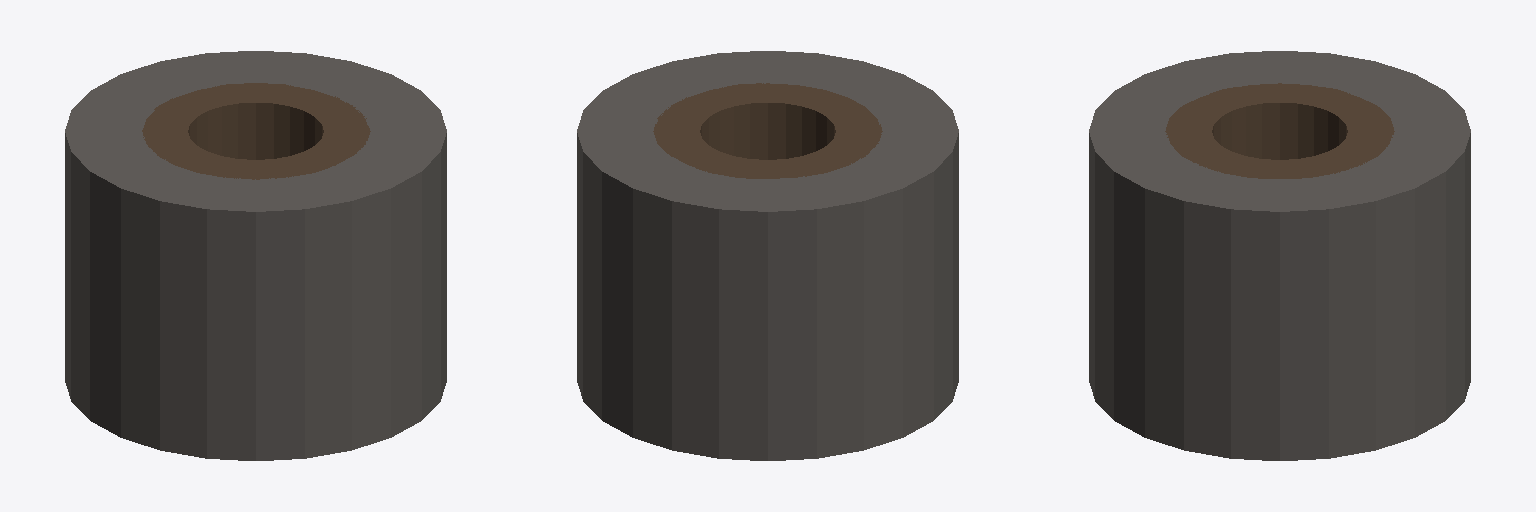
File: Duct.obj
3 renders of one model, left to right at view 1: azimuth 30°, elevation 25°; view 2: azimuth 150°, elevation 25°; view 3: azimuth 270°, elevation 25°, orthographic.
Parts seen in each view (by area): view 1: mergedBlocks; view 2: mergedBlocks; view 3: mergedBlocks.
Part boxes in pixels (bbox=[...]): mergedBlocks: bbox=[65, 51, 446, 460]; mergedBlocks: bbox=[577, 51, 958, 460]; mergedBlocks: bbox=[1089, 51, 1470, 460].
Bounding box in the file's own units: 0.5 × 0.36 × 0.5.